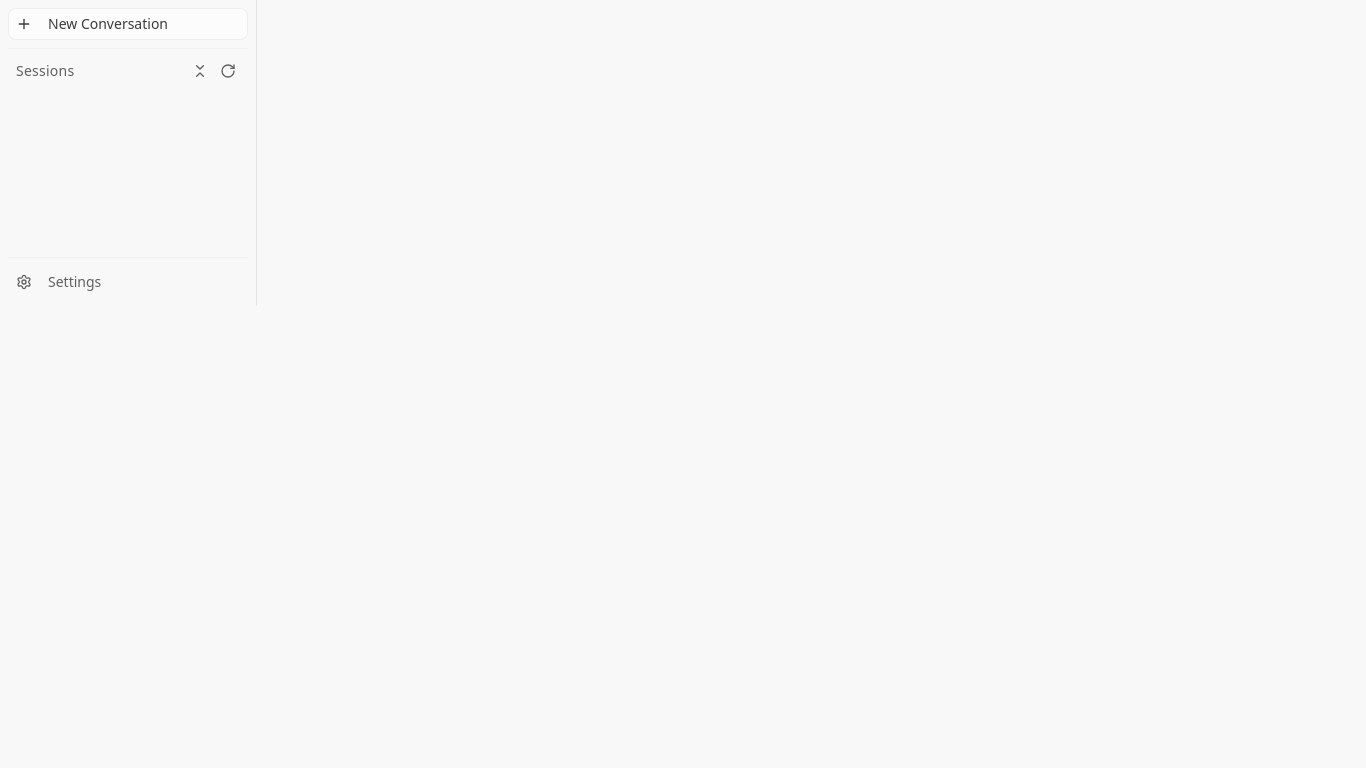
Test: SessionSidebar › toggles between collapsing all groups and expanding all groups
Click the button named "Collapse all groups": (200,71) [188,59,212,83]
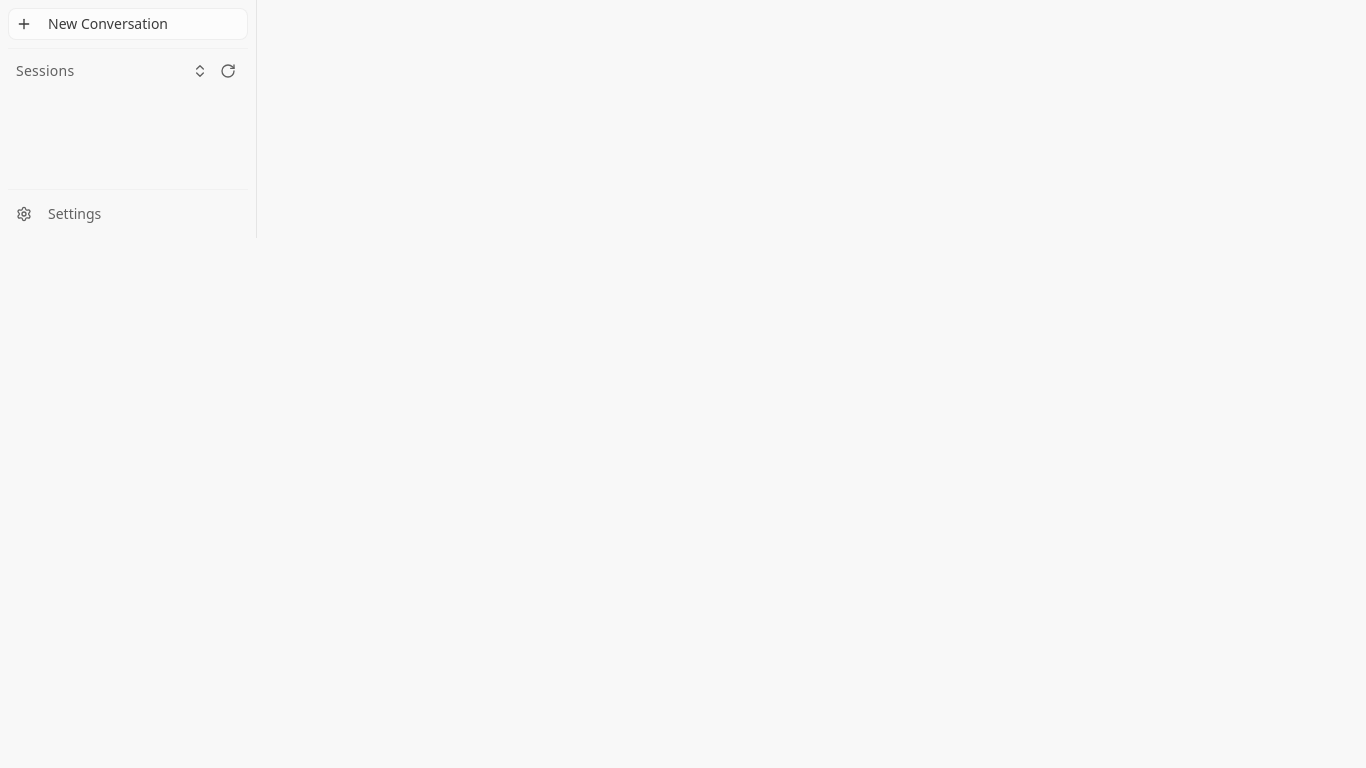
Check: the text "Pie work" is not shown
Check: the text "Other work" is not shown
Click the button named "Expand all groups": (200,71) [188,59,212,83]
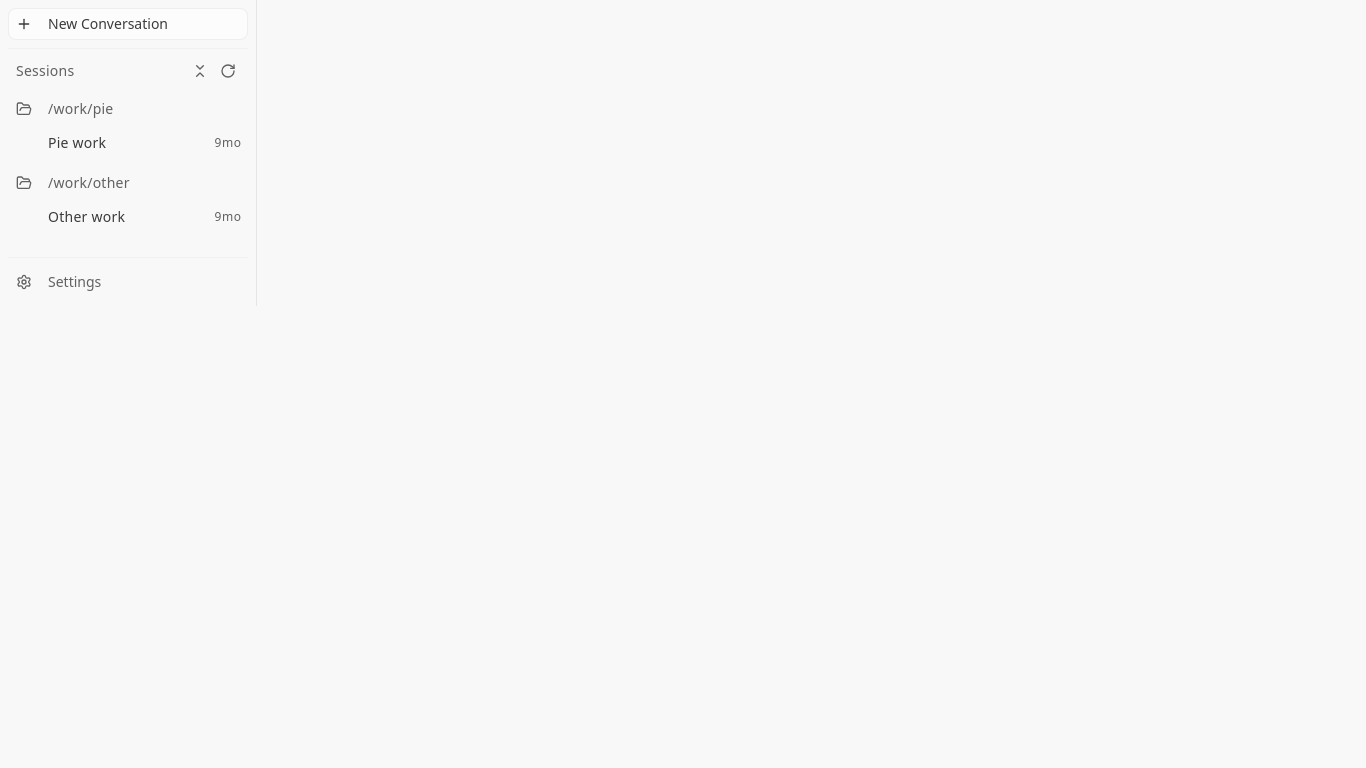
Check: the text "Pie work" is shown, box [48,133,106,152]
Check: the text "Other work" is shown, box [48,207,125,226]
